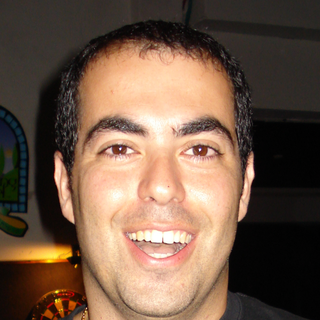eye: (177, 141, 224, 164), (99, 140, 145, 163)
